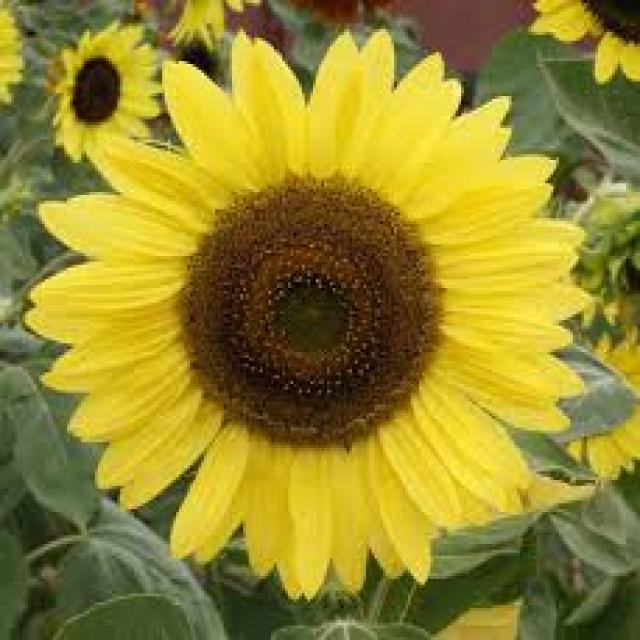sunflower: (21, 24, 598, 614), (520, 262, 640, 497), (39, 16, 168, 171), (516, 0, 640, 95), (151, 2, 275, 51), (0, 0, 32, 117)
